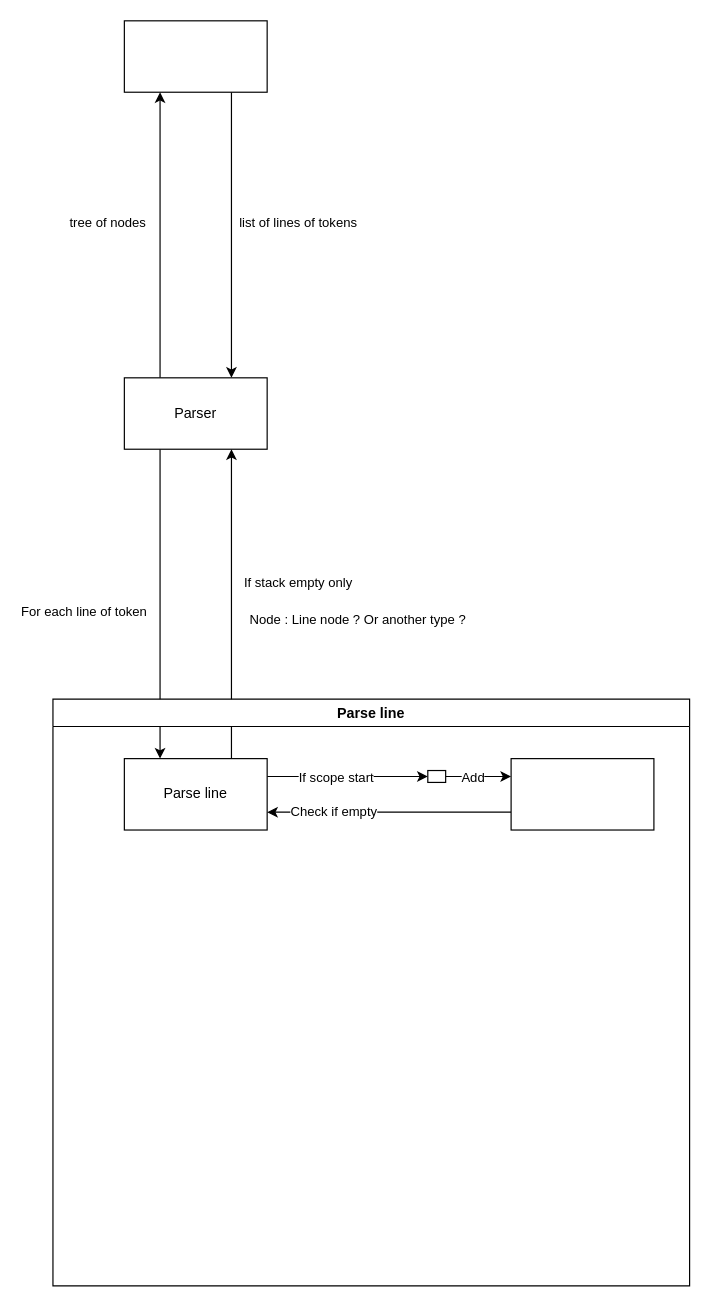
This 710x1307 diagram has some shape labels left out. Here are the shapes that lost their labels. From the top down, the box of each, then its label:
(123, 20, 267, 92): program
(510, 757, 654, 830): Scope parse stack
